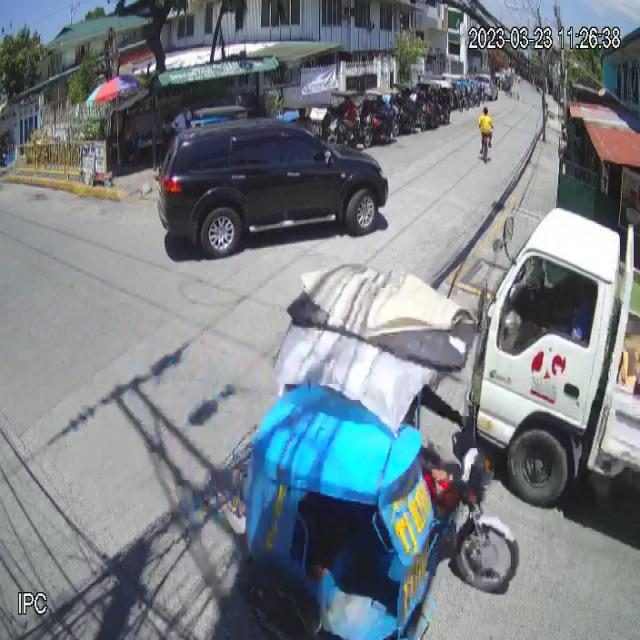Car: (154, 115, 389, 256)
Tricycle: (240, 260, 520, 640)
Truck: (478, 206, 640, 510)
